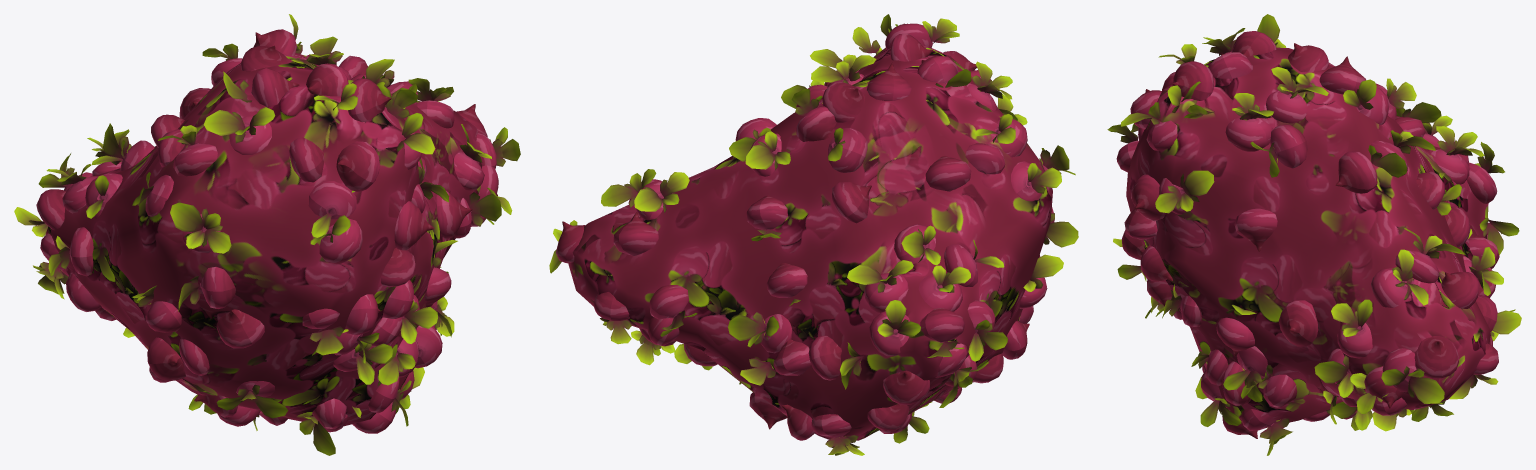
File: env_building_redbeetpile_lod0.fbx
3 views of the same model, side by side, from view 1: azimuth 30°, elevation 25°; view 2: azimuth 150°, elevation 25°; view 3: azimuth 270°, elevation 25° (orthographic). The views are drawn at different scales.
Parts seen in each view (by area): view 1: env_building_redbeetpile_lod0; view 2: env_building_redbeetpile_lod0; view 3: env_building_redbeetpile_lod0.
Boxes of the visible parts, <box> form: env_building_redbeetpile_lod0: <box>14,14,520,455</box>; env_building_redbeetpile_lod0: <box>549,14,1078,455</box>; env_building_redbeetpile_lod0: <box>1107,14,1521,455</box>.
Size of the model in its own units: 20.05 by 15.5 by 16.18.
